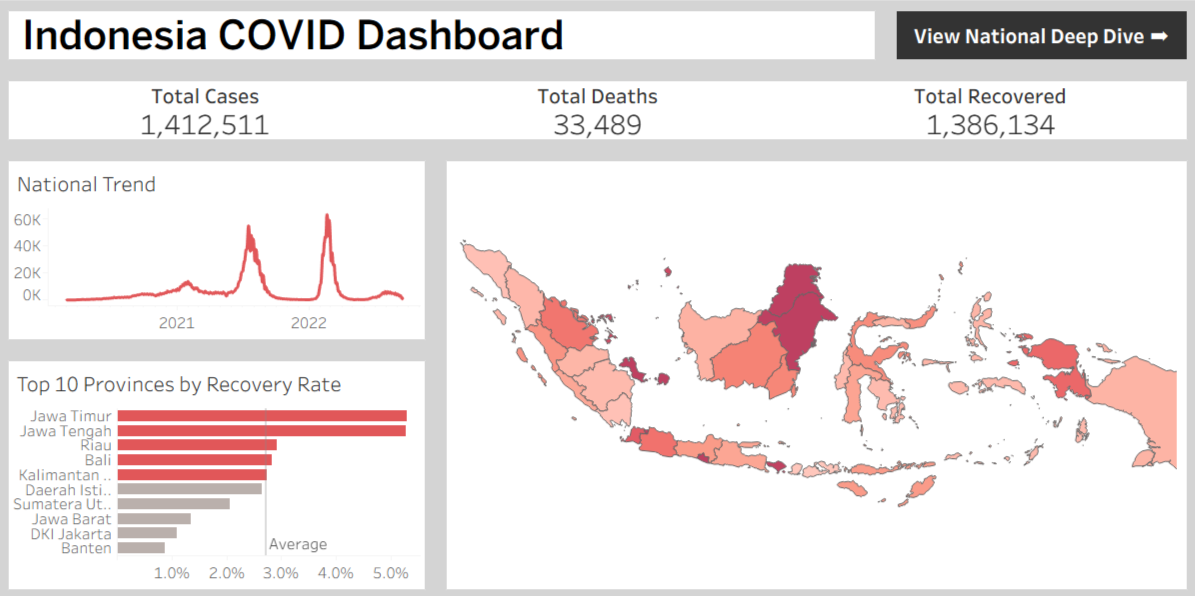

Layout of this report page (visuals, bound fields, positions):
{"tool":"tableau","page":{"name":"General Dashboard","canvas":[1200,600],"ordinal":1},"visuals":[{"type":"text","box":[0,0,888,70]},{"type":"dashboard-object","box":[888,0,312,70]},{"type":"worksheet","title":"KPIs","mark":"Automatic","box":[0,70,1200,80]},{"type":"worksheet","title":"National Trend","mark":"Line","rows":["New Cases"],"cols":["Date"],"box":[0,150,438,200]},{"type":"worksheet","title":"Province Map","mark":"Automatic","box":[438,150,762,450]},{"type":"worksheet","title":"Top 10 Provinces by Recovery Rate","mark":"Automatic","rows":["Province"],"cols":["Calculation_0337003582398464"],"box":[0,350,438,250]}]}

Visuals, with their boxes in screenshot pixels (x1, y1, x2, y2), scaled from the page's 1200x600 canvas onto the 1195x596 screenshot:
text: box(0, 0, 884, 70)
dashboard-object: box(884, 0, 1194, 70)
"KPIs" worksheet: box(0, 70, 1194, 149)
"National Trend" worksheet (Line marks): box(0, 149, 436, 348)
"Province Map" worksheet: box(436, 149, 1194, 595)
"Top 10 Provinces by Recovery Rate" worksheet: box(0, 348, 436, 595)
